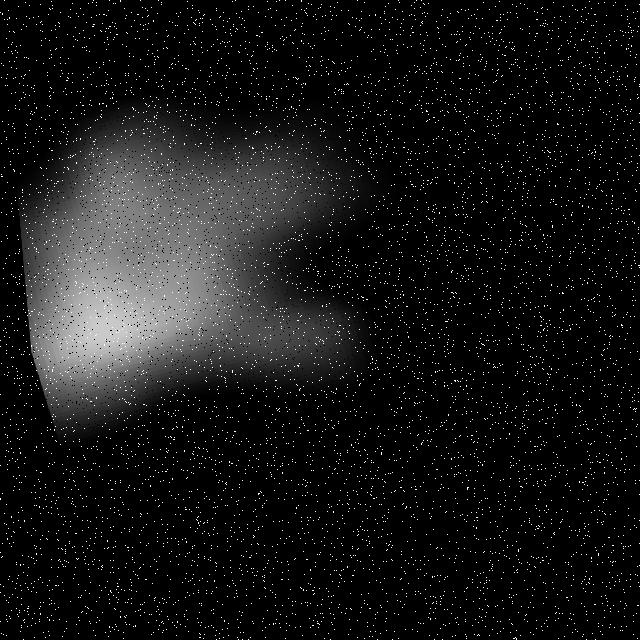person: (6, 52, 440, 483)
